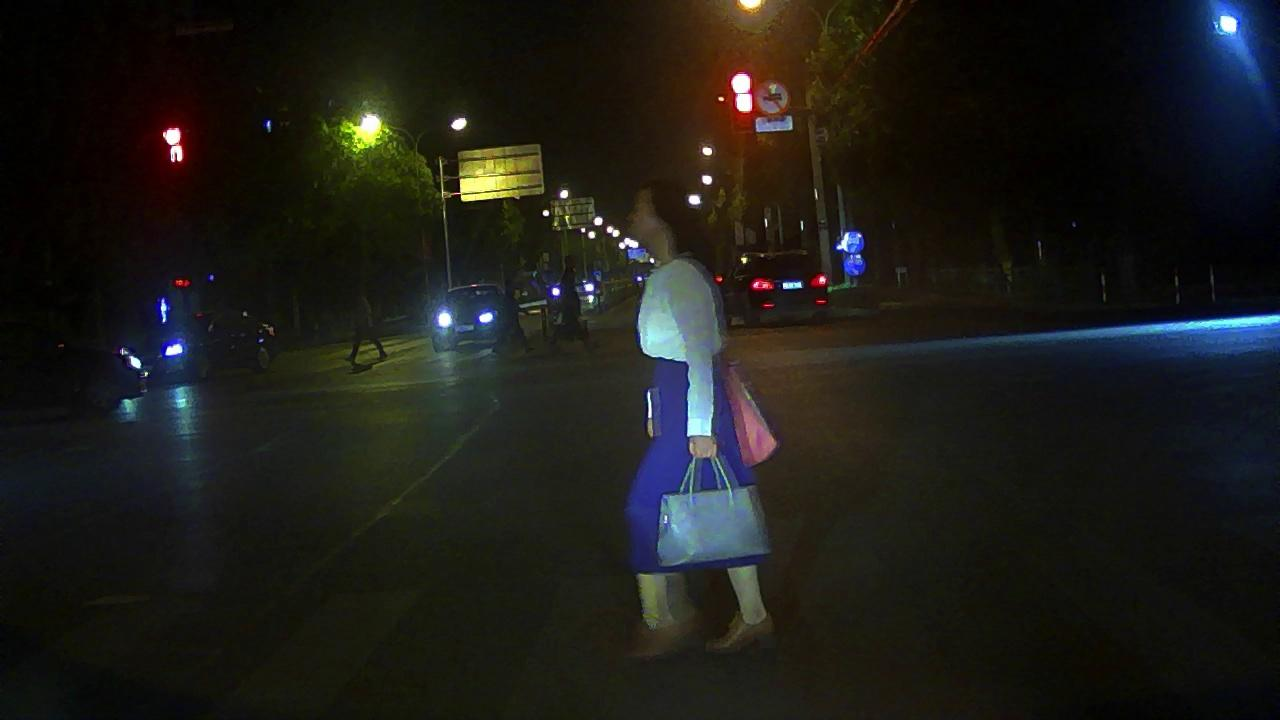traffic_light: (157, 121, 190, 171), (727, 71, 754, 117)
